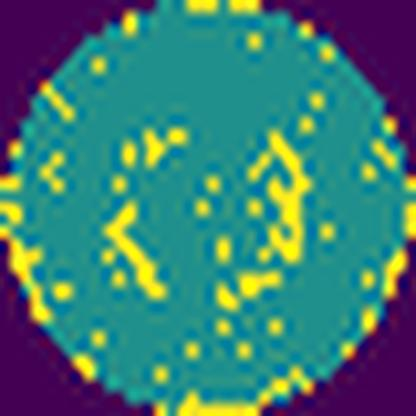Donut: (84, 114, 325, 326)
